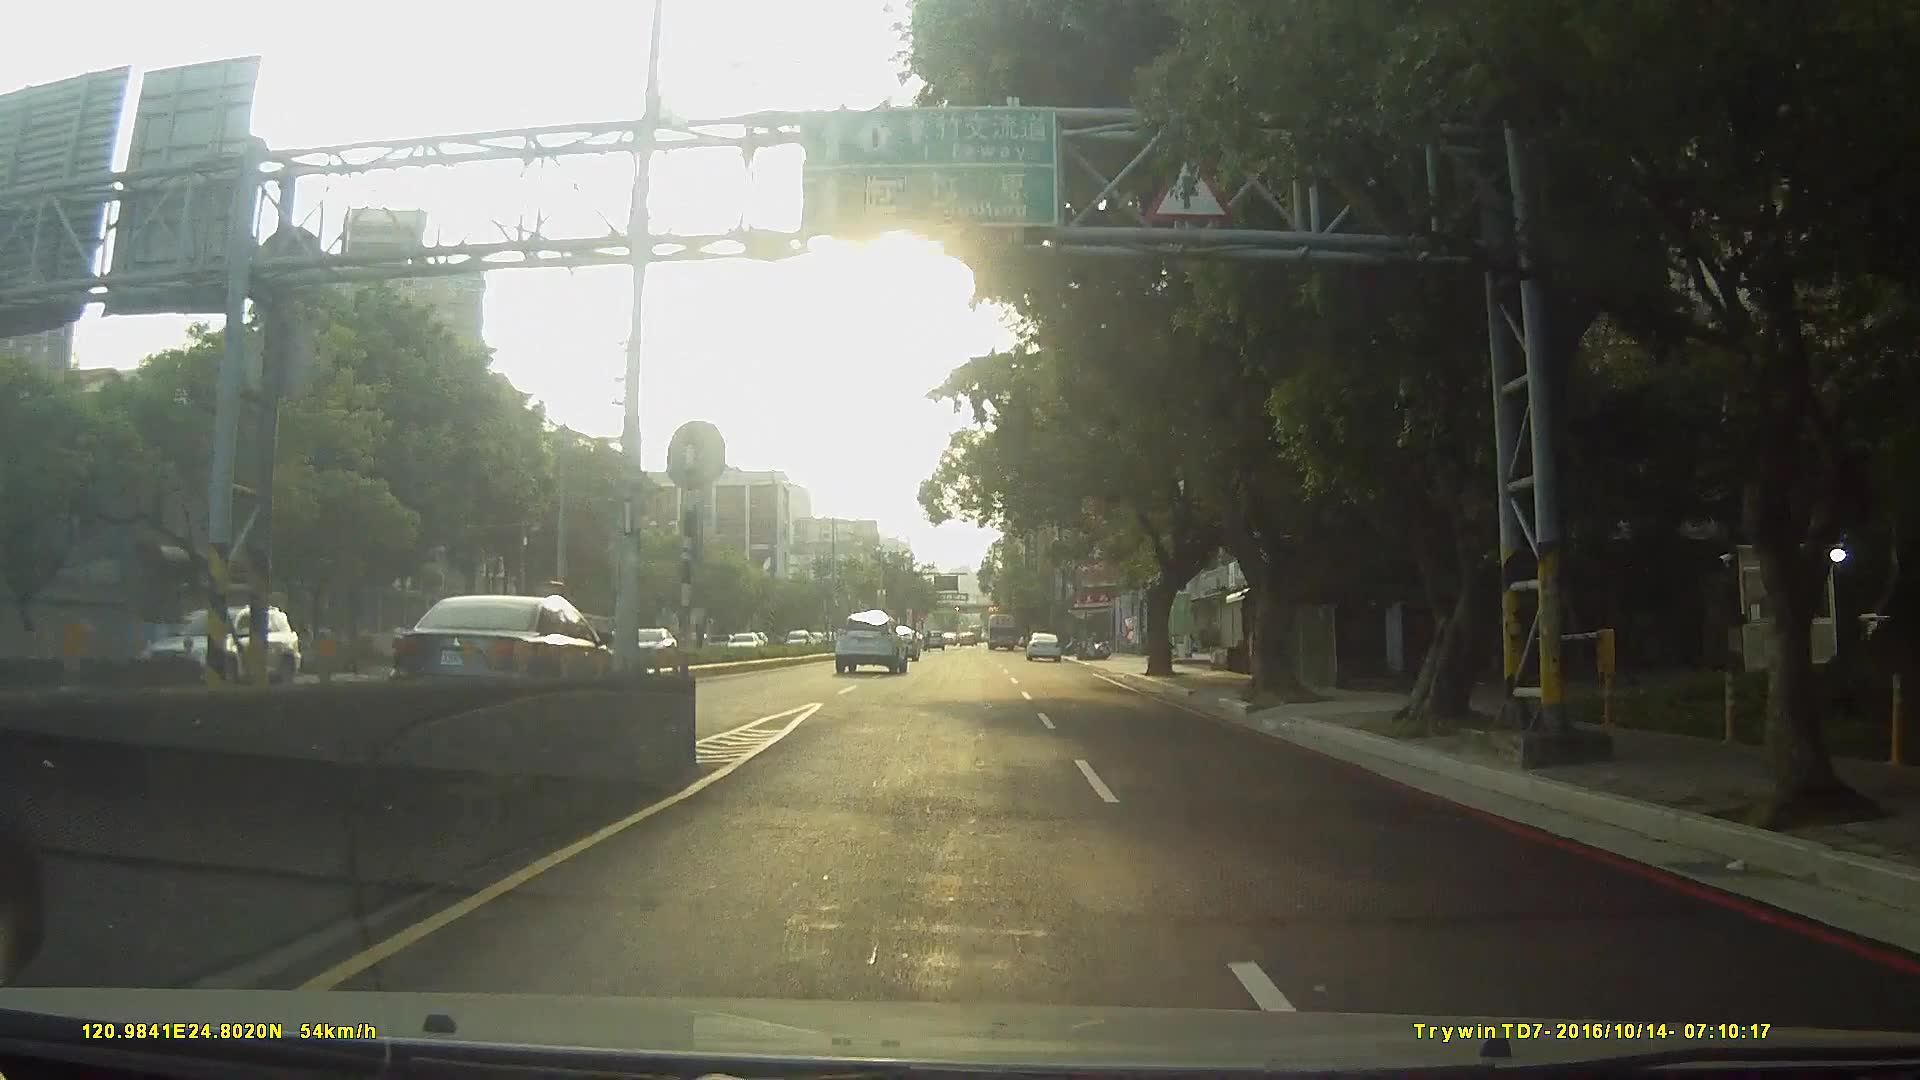vehicle: (386, 592, 624, 717), (832, 609, 909, 675), (985, 612, 1017, 651), (1023, 630, 1062, 662)
